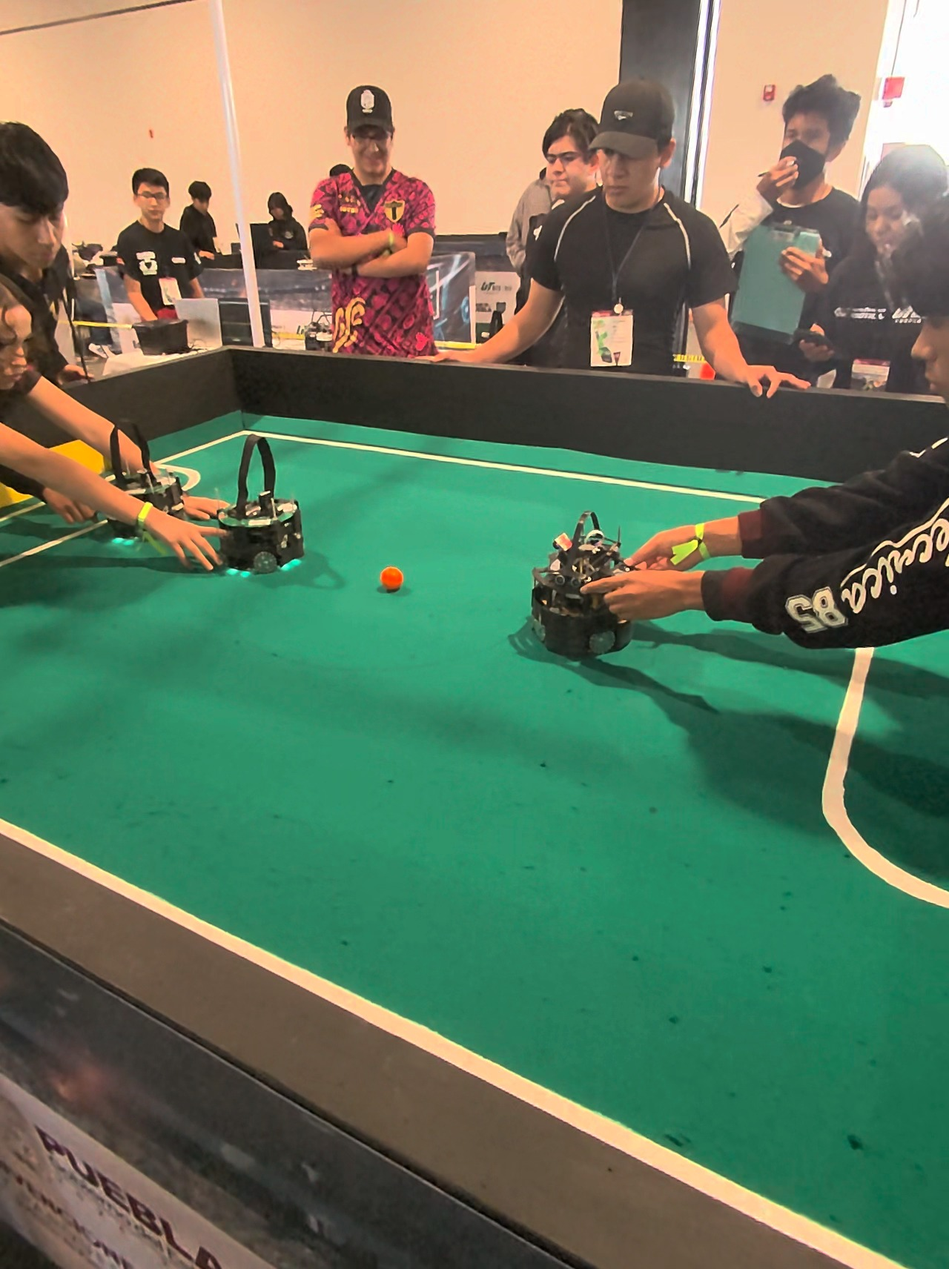Robot: (189, 420, 313, 589), (530, 509, 638, 668)
